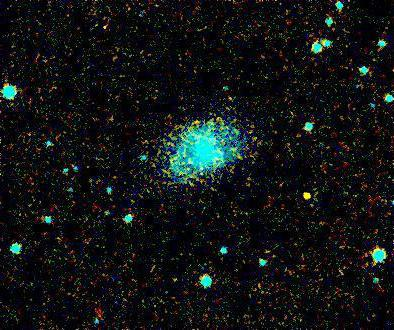star: (294, 181, 324, 211)
